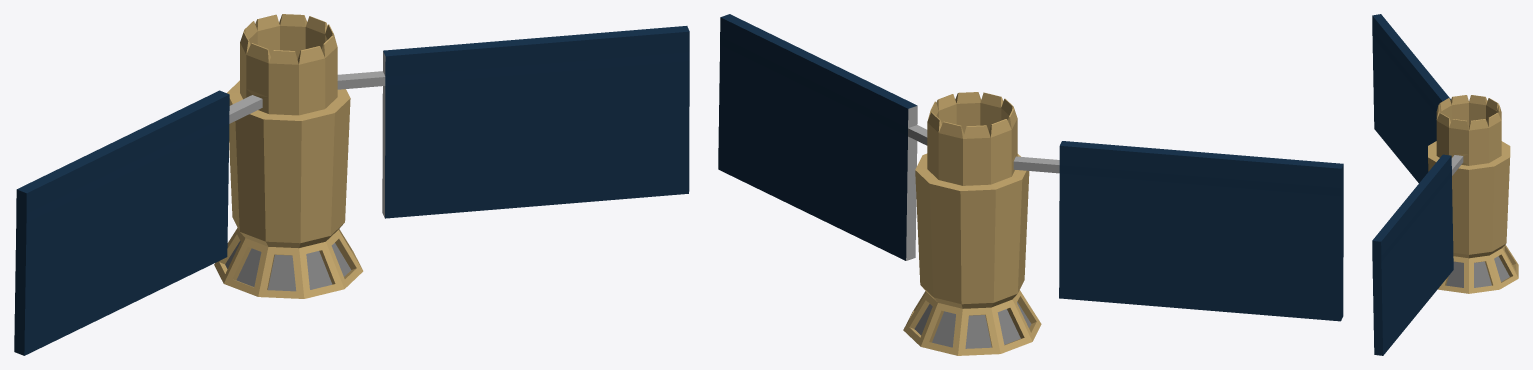
Rendered from satellite coloured.fbx.
The picture shows the model from 3 angles, left to right: view 1: azimuth 30°, elevation 25°; view 2: azimuth 150°, elevation 25°; view 3: azimuth 270°, elevation 25°; orthographic projection. The views are drawn at different scales.
Visible parts, largest first — view 1: pPipe1; view 2: pPipe1; view 3: pPipe1.
Part boxes in pixels (<box>): pPipe1: <box>14,14,689,355</box>; pPipe1: <box>718,14,1343,355</box>; pPipe1: <box>1372,14,1518,355</box>.
Bounding box in the file's own units: 53.16 × 17.79 × 14.41.
